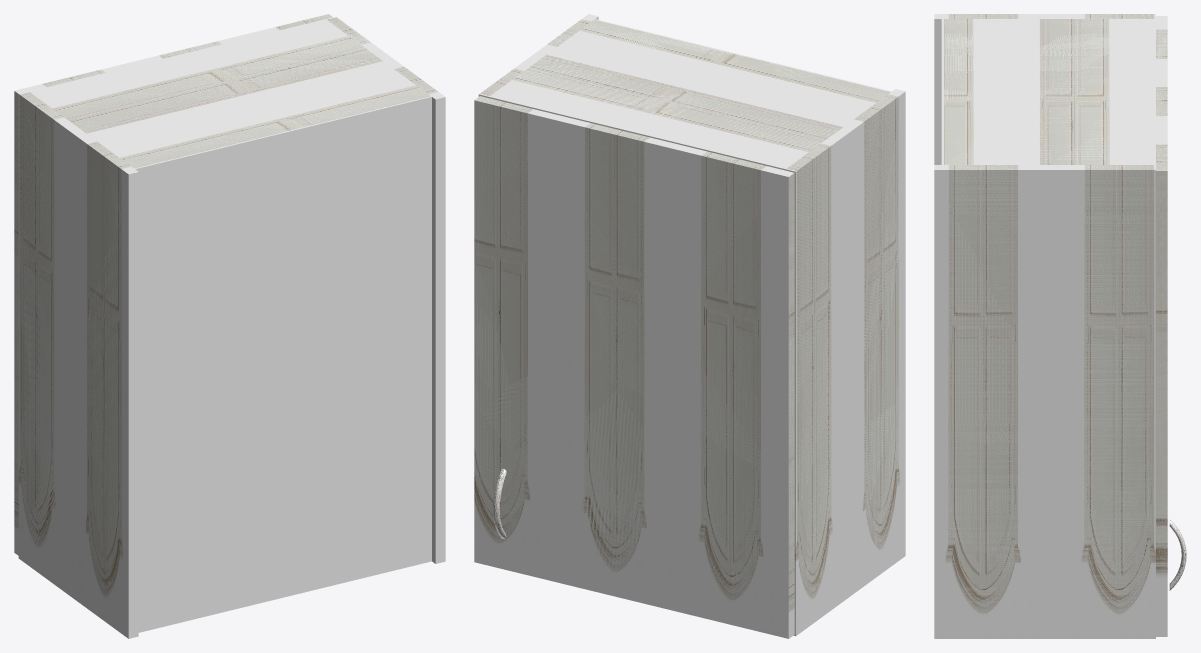
3 views of the same model, side by side, from view 1: azimuth 30°, elevation 25°; view 2: azimuth 150°, elevation 25°; view 3: azimuth 270°, elevation 25° (orthographic).
Parts seen in each view (by area): view 1: mesh69_mesh69-geometry, mesh33_mesh33-geometry, mesh62_mesh62-geometry, mesh65_mesh65-geometry; view 2: mesh65_mesh65-geometry, mesh33_mesh33-geometry, mesh69_mesh69-geometry, mesh62_mesh62-geometry; view 3: mesh62_mesh62-geometry, mesh69_mesh69-geometry, mesh65_mesh65-geometry, mesh33_mesh33-geometry, mesh66_mesh66-geometry.
Boxes of the visible parts, box(x1,y1,x2,y2) form: mesh69_mesh69-geometry: box(29, 19, 436, 632); mesh33_mesh33-geometry: box(18, 91, 138, 638); mesh62_mesh62-geometry: box(326, 16, 445, 563); mesh65_mesh65-geometry: box(14, 14, 332, 555); mesh65_mesh65-geometry: box(474, 96, 794, 638); mesh33_mesh33-geometry: box(785, 89, 905, 636); mesh69_mesh69-geometry: box(489, 18, 896, 170); mesh62_mesh62-geometry: box(478, 14, 598, 97); mesh62_mesh62-geometry: box(934, 165, 1155, 638); mesh69_mesh69-geometry: box(941, 16, 1155, 167); mesh65_mesh65-geometry: box(1156, 16, 1167, 636); mesh33_mesh33-geometry: box(934, 14, 1155, 164); mesh66_mesh66-geometry: box(1169, 519, 1186, 590).
Bounding box in the file's own units: 0.5402 × 0.7563 × 0.369.
